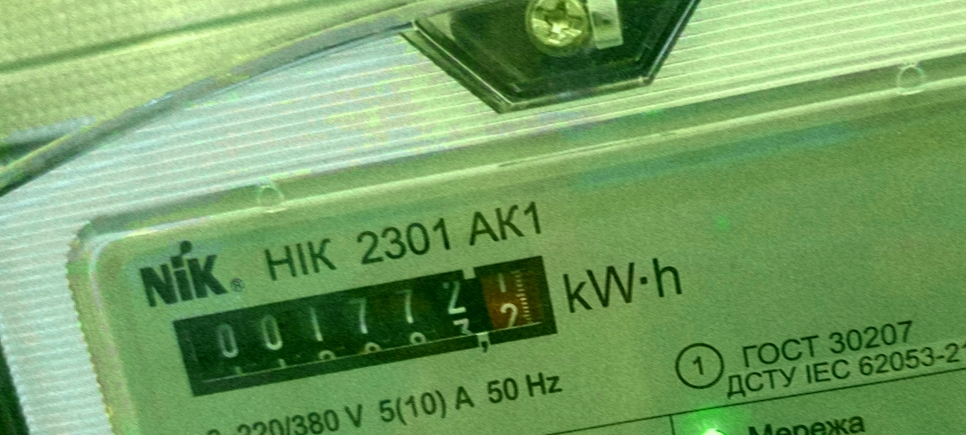0: (211, 318, 244, 362), (258, 311, 286, 353)
1: (305, 303, 328, 344), (494, 270, 511, 297)
2: (441, 278, 469, 318), (496, 299, 523, 331)
3: (452, 316, 476, 340)
7: (348, 294, 376, 338), (393, 286, 420, 328)
screen: (160, 242, 578, 411)
